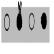correct: (40, 10, 47, 34)
no answer: (28, 11, 35, 34)
not correct: (16, 1, 23, 32)
